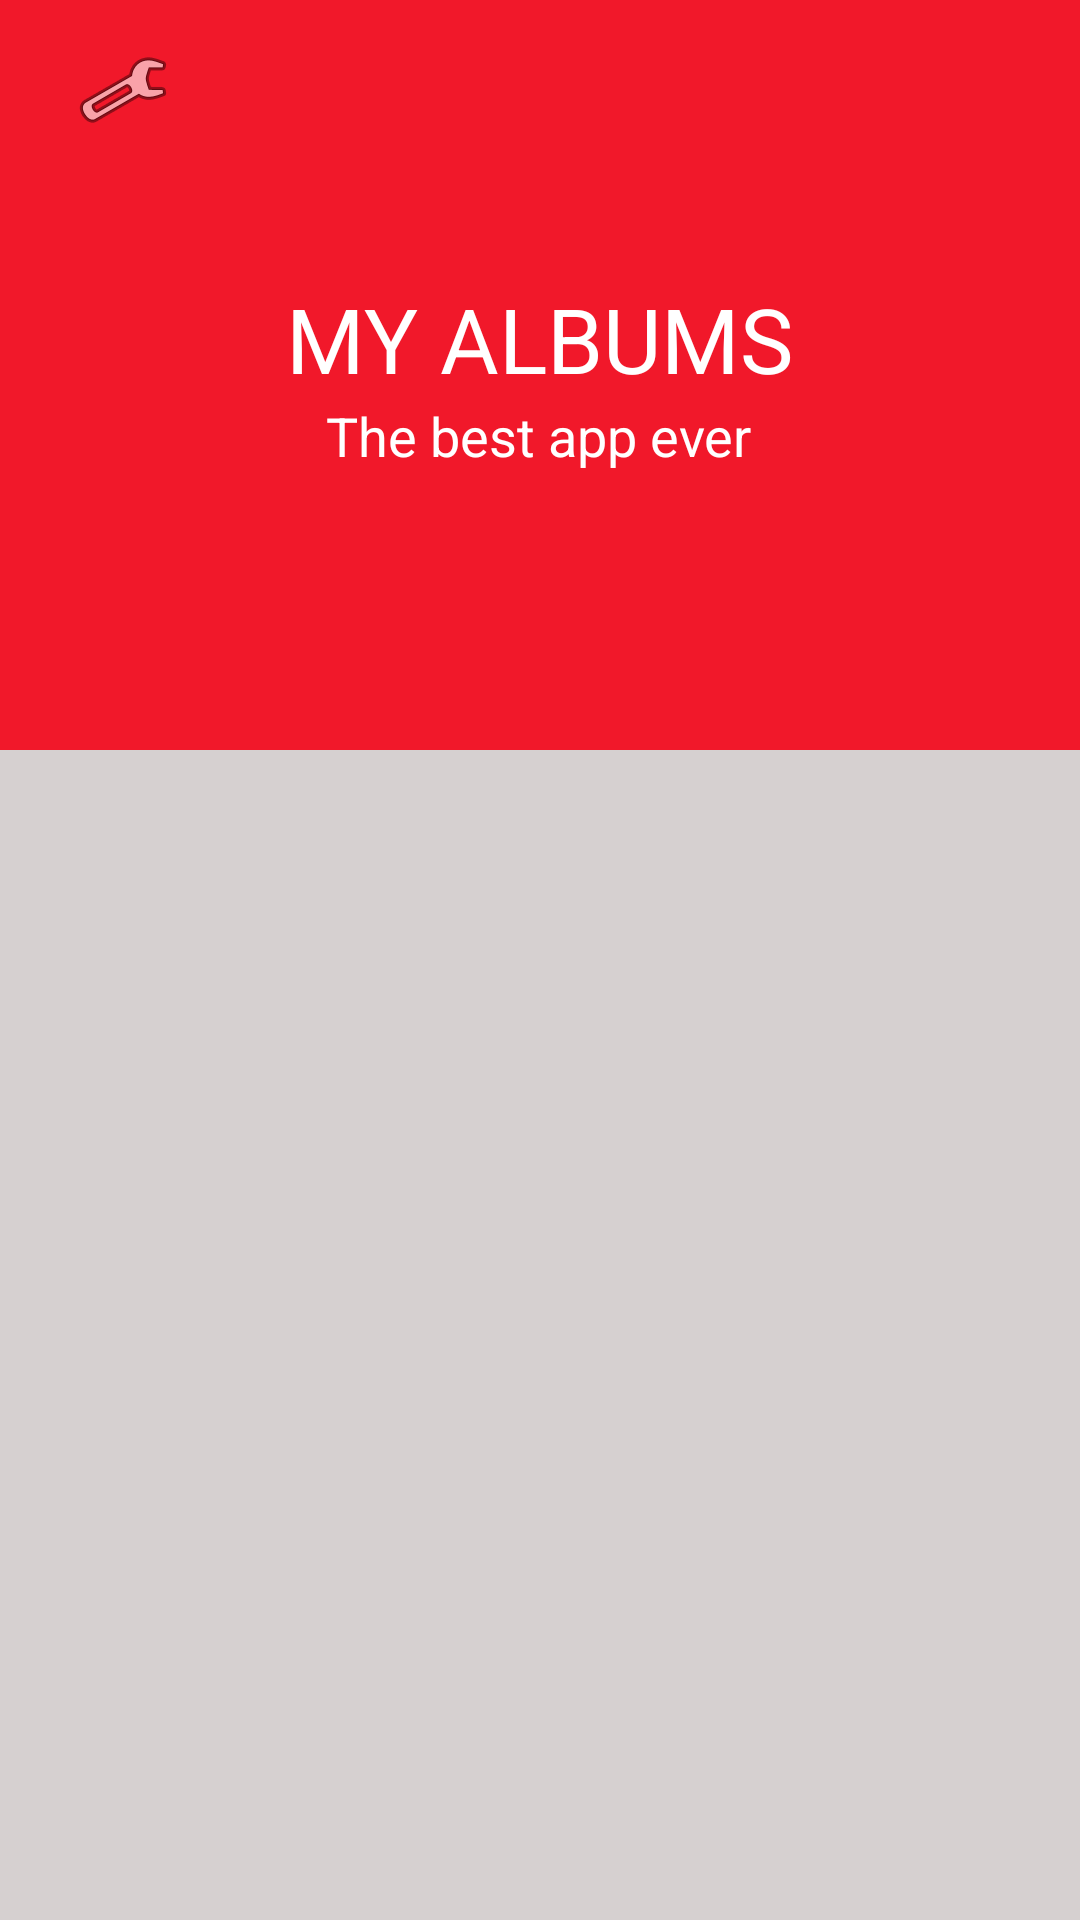

Named icons in this screenshot (1080 x 1920) and their bounding boxes, (x1, y1, x2, y2):
manage: (80, 57, 166, 123)
